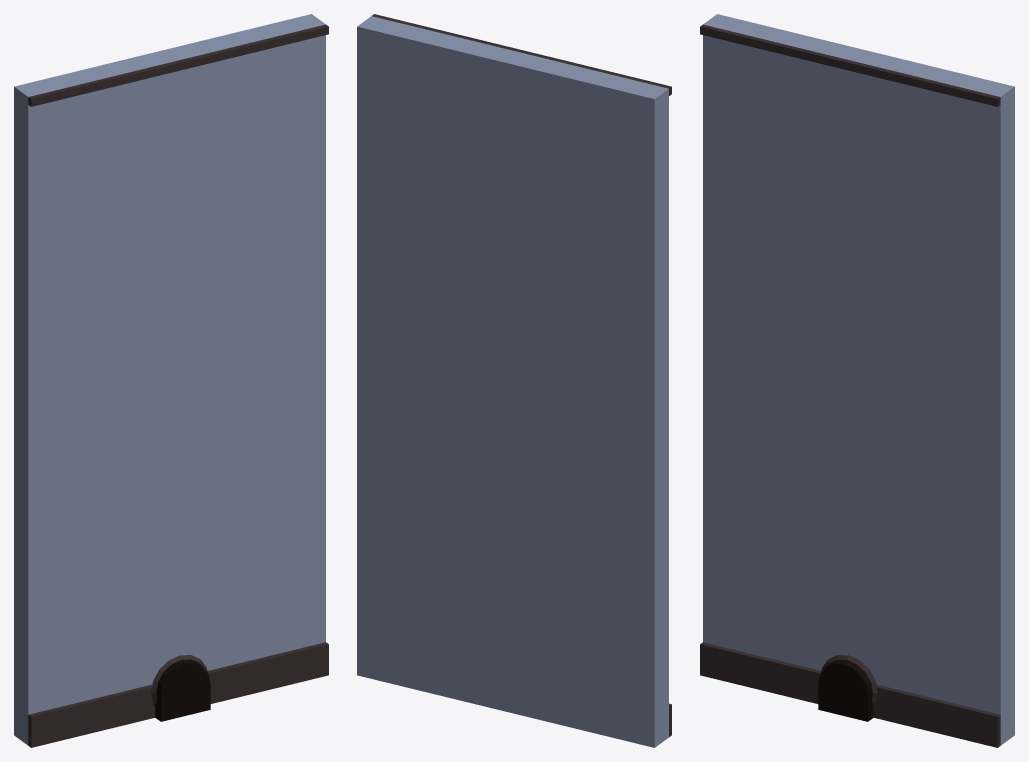
File: wall_mousehole.fbx
The picture shows the model from 3 angles, left to right: view 1: azimuth 30°, elevation 25°; view 2: azimuth 150°, elevation 25°; view 3: azimuth 330°, elevation 25°; orthographic projection.
Parts seen in each view (by area): view 1: wall_mousehole; view 2: wall_mousehole; view 3: wall_mousehole.
Part boxes in pixels (x1,y1,x2,y2): wall_mousehole: [14, 14, 328, 747]; wall_mousehole: [357, 14, 671, 747]; wall_mousehole: [700, 14, 1014, 747].
Bounding box in the file's own units: 1.2 × 2.52 × 0.16.
